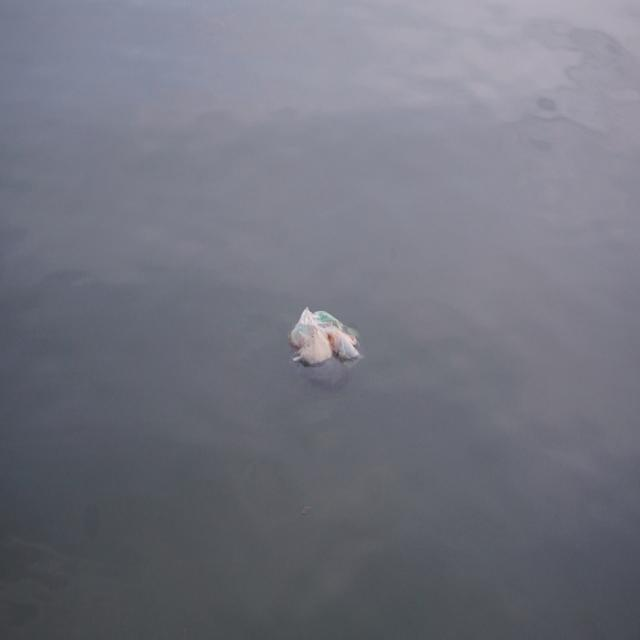Kantong Plastik: (287, 301, 364, 388)
